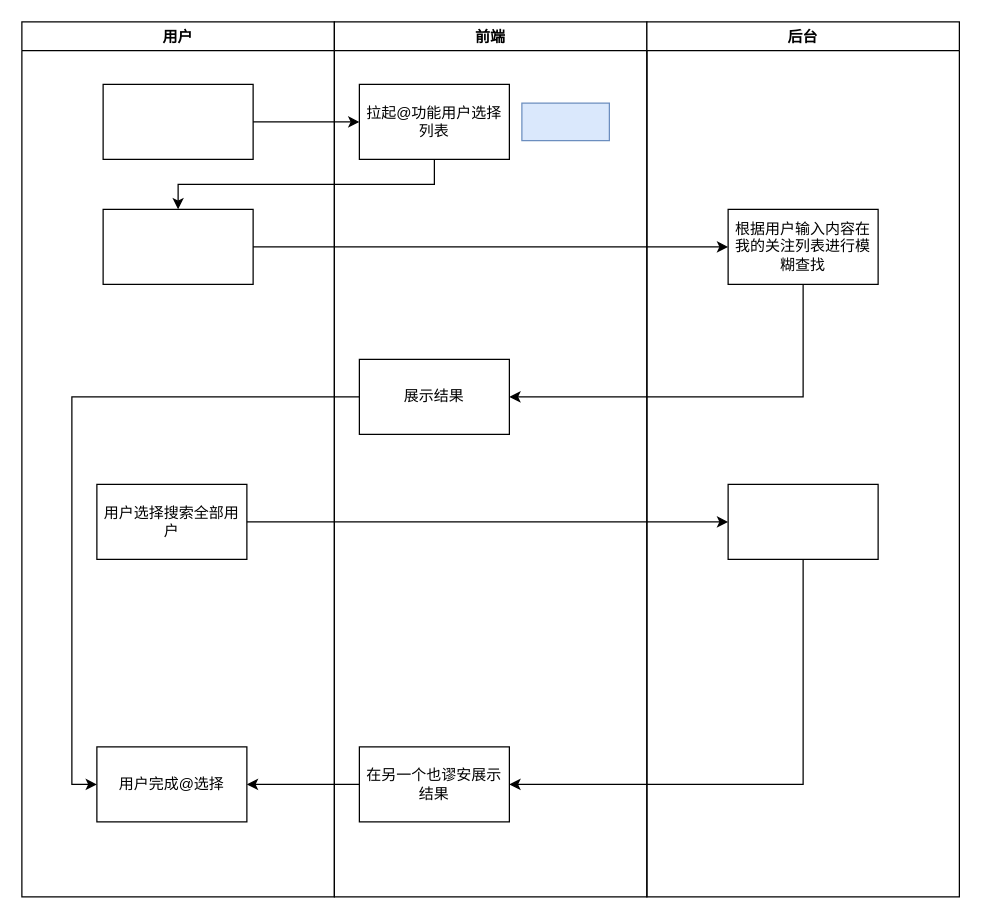
This 981x919 diagram has some shape labels left out. The shapes that lost their labels are listed below. From the top down, each one's centre as x and y in pixels, then its label:
point (177, 121): 在APP输入框输入@
point (565, 121): 默认展示所有关注用户
point (177, 246): 继续输入内容
point (802, 521): 根据用户输入内容在所有用户中进行模糊查询
